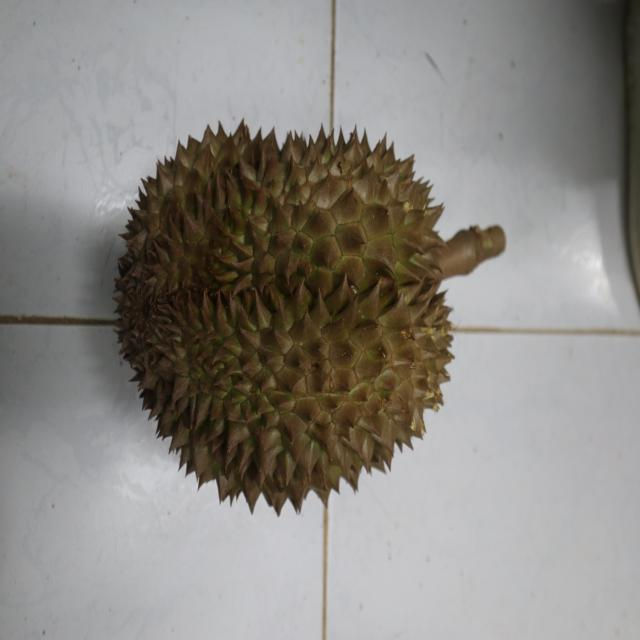mature: (110, 114, 457, 508)
